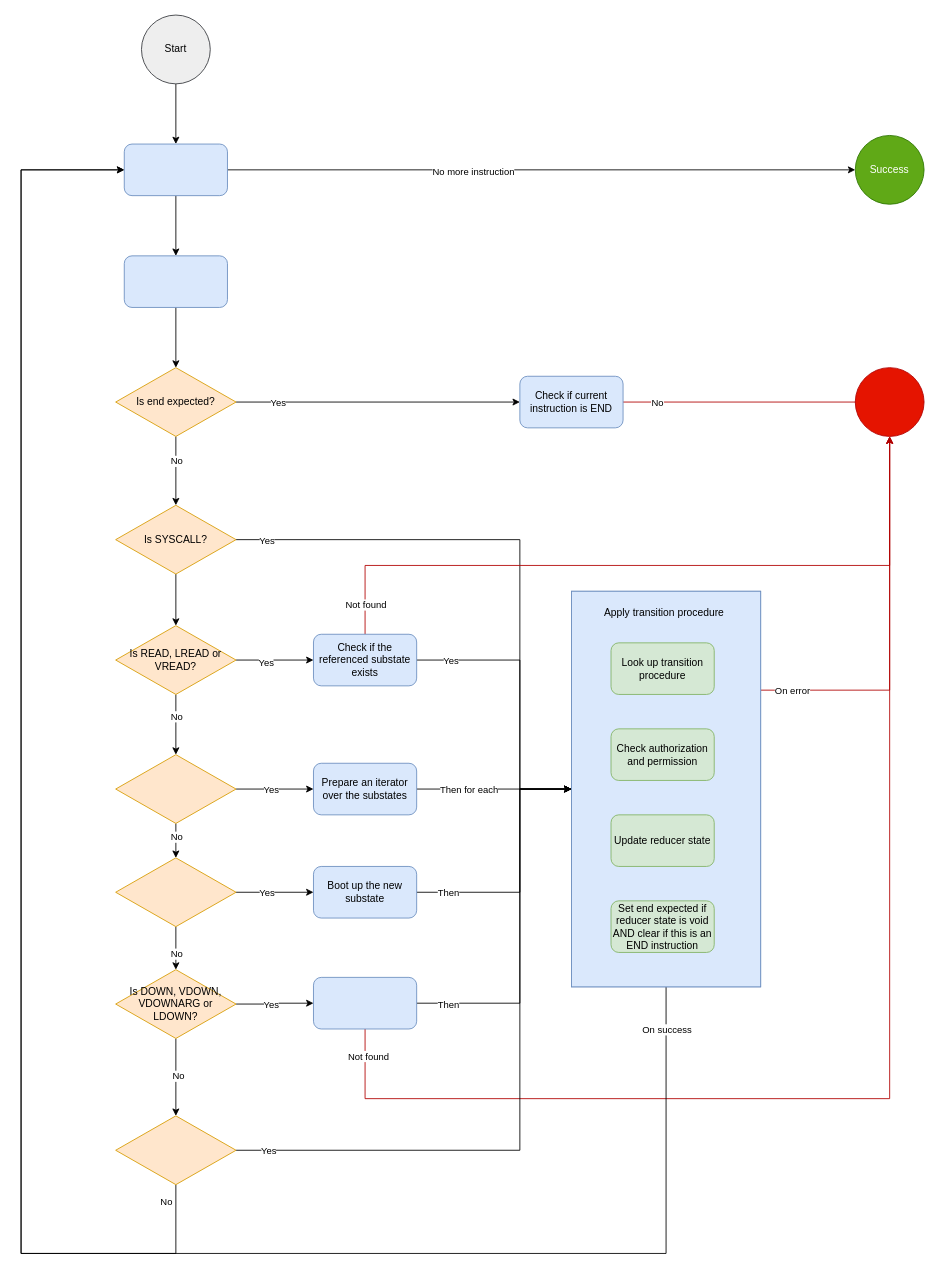
This 939x1275 diagram has some shape labels left out. The shapes that lost their labels are listed below. From the top down, each one's box as (x1, y1, x2, y2) in pixels, then its label:
(123, 143, 227, 196): Load instruction
(123, 255, 227, 307): Update current instruction and index
(854, 367, 924, 436): Fail
(115, 754, 236, 823): Is DOWNALL or DOWNINDEX?
(115, 857, 236, 927): Is UP?
(313, 977, 417, 1029): Spin down the referenced substate
(115, 1115, 236, 1185): Is END?
